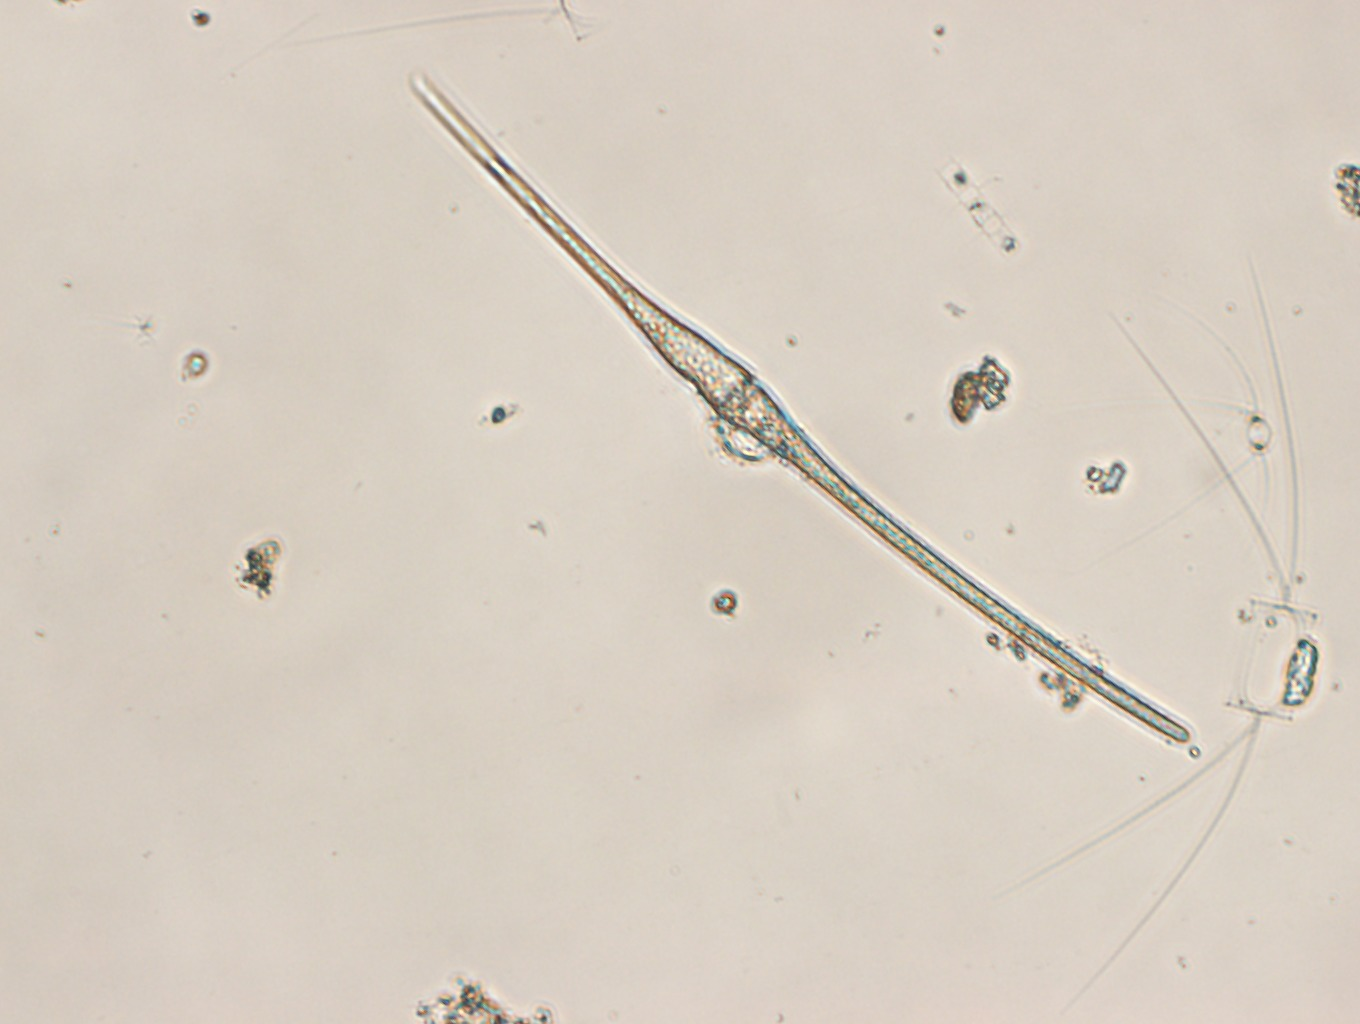ceratium fusus: (403, 68, 1193, 745)
chaetoceros: (1000, 248, 1319, 1013)
